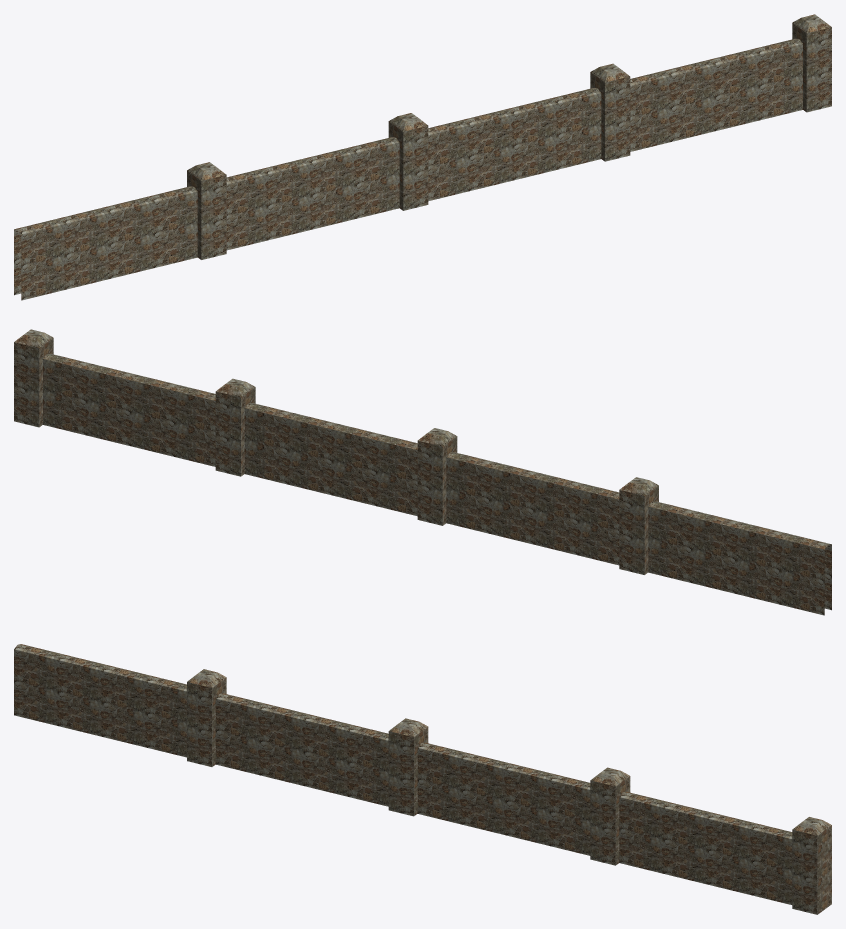
Rendered from MWalC3.glb.
3 renders of one model, top to bottom at view 1: azimuth 30°, elevation 25°; view 2: azimuth 150°, elevation 25°; view 3: azimuth 330°, elevation 25°, orthographic.
Visible parts, largest first — view 1: _MWalC3; view 2: _MWalC3; view 3: _MWalC3.
Part boxes in pixels (x1,y1,x2,y2): _MWalC3: [14, 14, 831, 300]; _MWalC3: [14, 329, 831, 615]; _MWalC3: [14, 644, 831, 914].
Bounding box in the file's own units: 32 × 3.23 × 1.
1 material, 1 textured.
